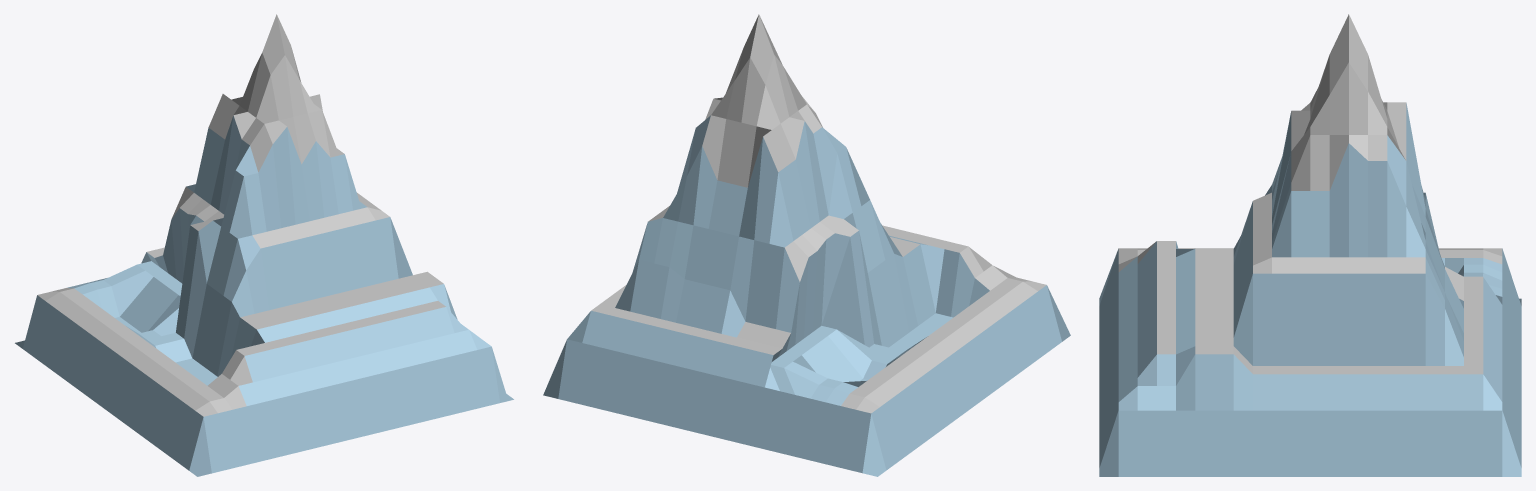
The model's file is test_mountain.dae.
The picture shows the model from 3 angles, left to right: view 1: azimuth 30°, elevation 25°; view 2: azimuth 150°, elevation 25°; view 3: azimuth 270°, elevation 25°; orthographic projection. The views are drawn at different scales.
Parts seen in each view (by area): view 1: Plane; view 2: Plane; view 3: Plane.
Boxes of the visible parts, <box> form: Plane: <box>15,14,513,476</box>; Plane: <box>543,14,1070,476</box>; Plane: <box>1099,14,1521,476</box>.
Size of what is drawn, in the model's own units: 2 by 2 by 2.04.
